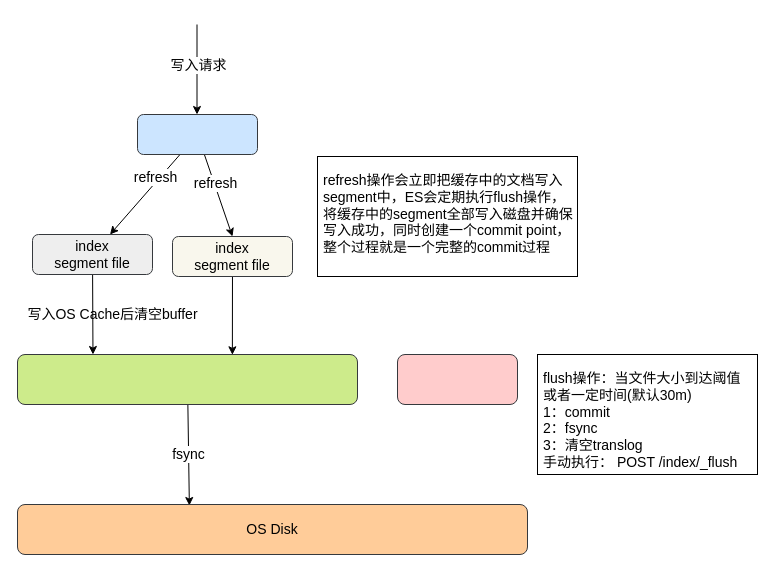
This 775x572 diagram has some shape labels left out. Here are the shapes that lost their labels. From the top down, the centre of each, then its label:
At [197,134]: "写入内存Buffer".
At [187,379]: "OS Cache".
At [457,379]: "translog文件".
